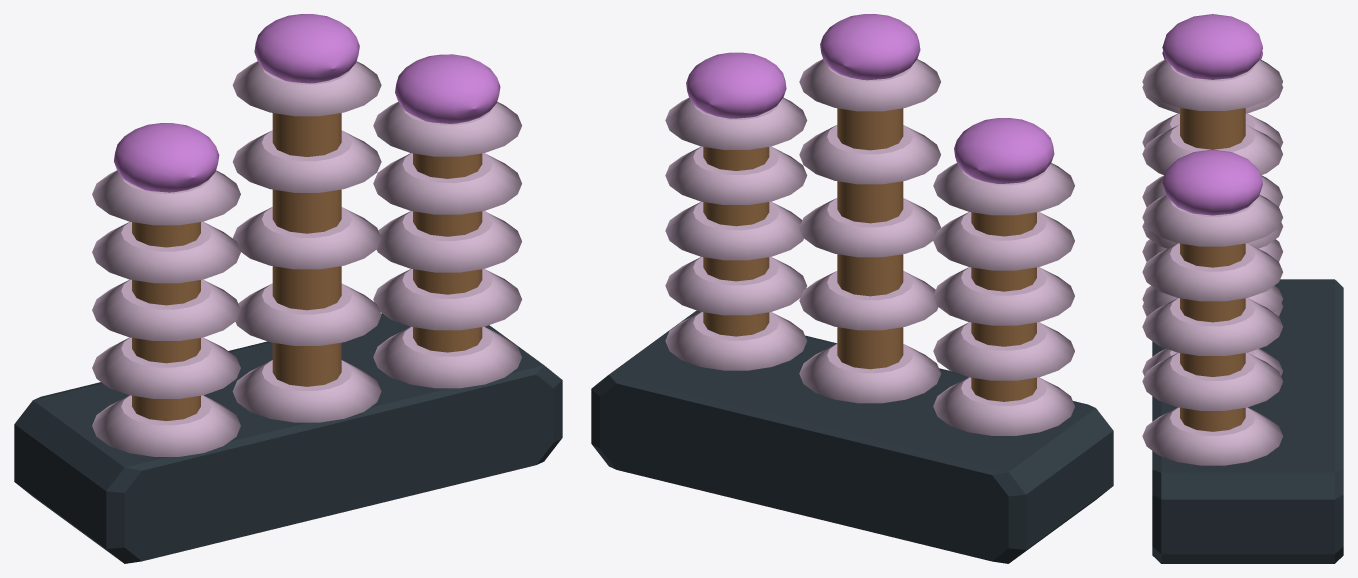
File: boss_capacitor.glb
3 views of the same model, side by side, from view 1: azimuth 30°, elevation 25°; view 2: azimuth 150°, elevation 25°; view 3: azimuth 270°, elevation 25° (orthographic). The views are drawn at different scales.
Visible parts, largest first — view 1: boss_capacitor; view 2: boss_capacitor; view 3: boss_capacitor.
Boxes of the visible parts, x1=… form: boss_capacitor: x1=14, y1=14, x2=562, y2=563; boss_capacitor: x1=591, y1=14, x2=1113, y2=563; boss_capacitor: x1=1142, y1=14, x2=1343, y2=563.
Bounding box in the file's own units: 1.98 × 1.96 × 0.8.
